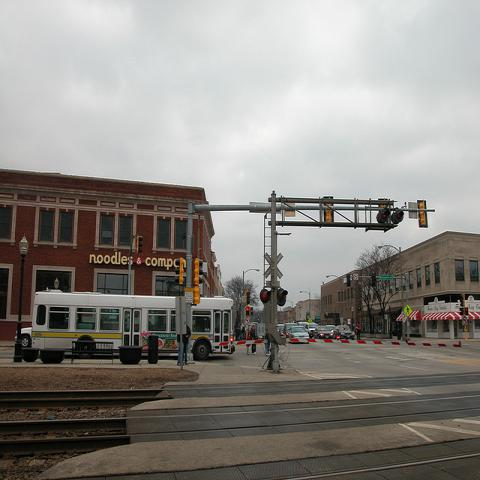bus: (35, 292, 235, 360)
car: (14, 327, 32, 348), (333, 325, 355, 341), (288, 326, 310, 339), (304, 323, 319, 338), (314, 326, 331, 339), (326, 324, 336, 338), (297, 321, 309, 326), (279, 326, 284, 336), (278, 324, 284, 331)
